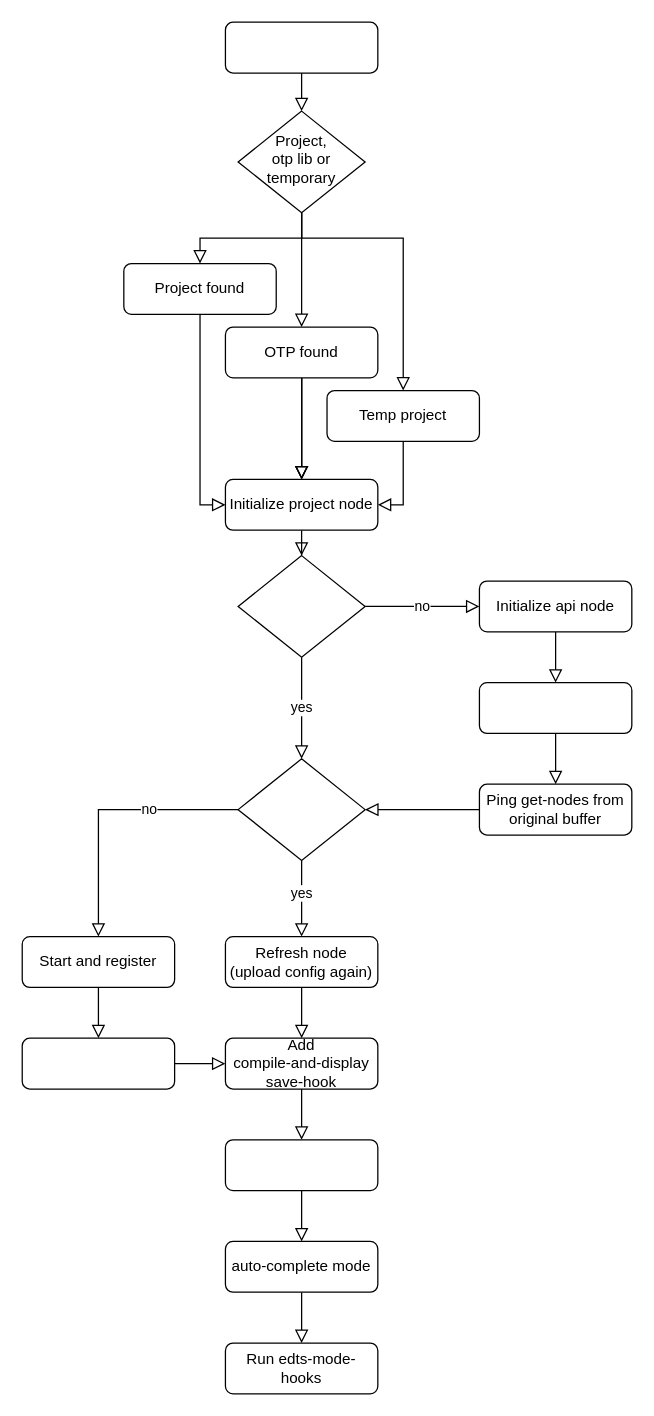
Some shapes in this 654 by 1416 pixel diagram are drawn without their labels. Each missing label, with the centre of its shape:
"API node started?" goes at (x=301, y=605).
"auto-highlight-symbol mode" goes at (x=301, y=1165).
"edts-mode starts" goes at (x=301, y=47).
"Project node registered?" goes at (x=301, y=809).
"With a new buffer run ./start in edts-root" goes at (x=555, y=707).
"With a new buffer run :start-command in project-root" goes at (x=98, y=1063).
